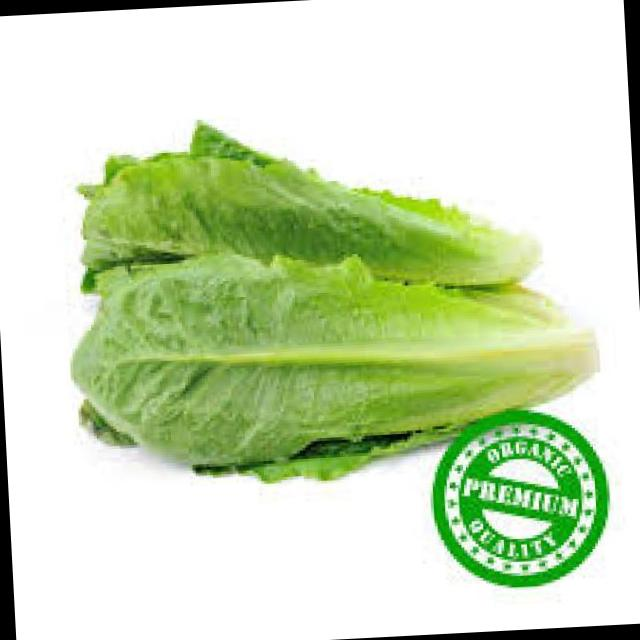Lettuce-Ready-to-Harvest: (73, 255, 593, 463), (82, 121, 538, 285)
